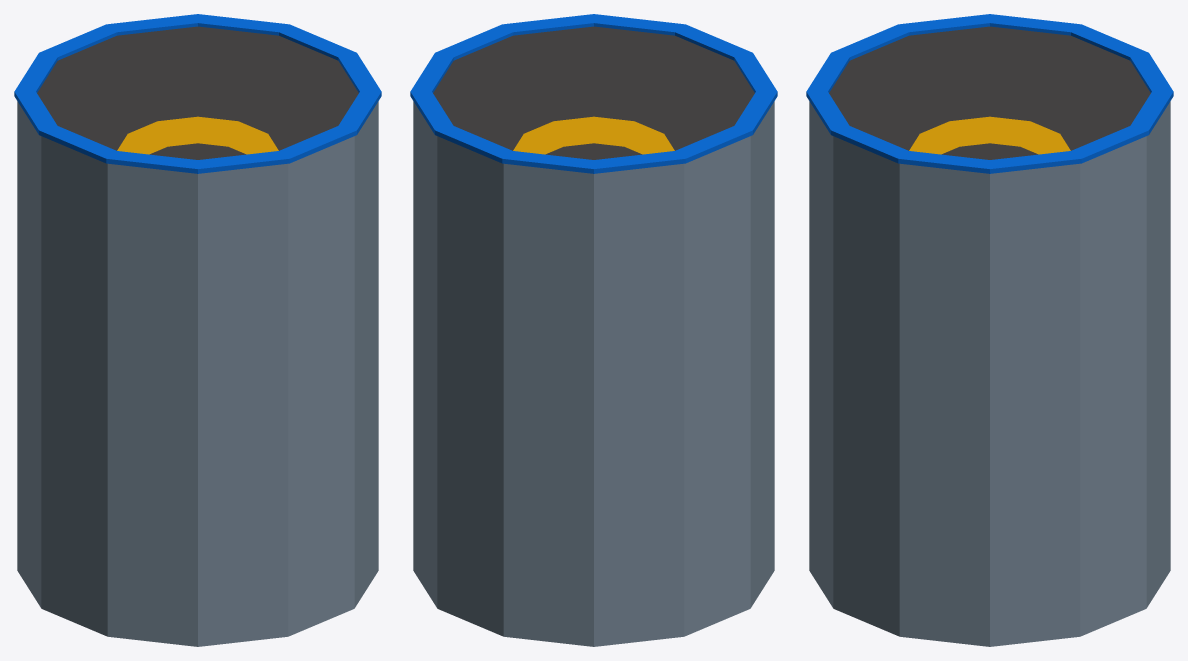
File: diving_trampoline_02(jump_02)_blend.fbx
The picture shows the model from 3 angles, left to right: view 1: azimuth 30°, elevation 25°; view 2: azimuth 150°, elevation 25°; view 3: azimuth 270°, elevation 25°; orthographic projection.
Parts seen in each view (by area): view 1: obj_trampoline3, obj_trampoline1, obj_trampoline2; view 2: obj_trampoline3, obj_trampoline1, obj_trampoline2; view 3: obj_trampoline3, obj_trampoline1, obj_trampoline2.
Part boxes in pixels (left/top/right/bottom): obj_trampoline3: left=17, top=101, right=378, bottom=646; obj_trampoline1: left=37, top=26, right=358, bottom=159; obj_trampoline2: left=14, top=14, right=381, bottom=173; obj_trampoline3: left=413, top=101, right=774, bottom=646; obj_trampoline1: left=433, top=26, right=754, bottom=159; obj_trampoline2: left=410, top=14, right=777, bottom=173; obj_trampoline3: left=809, top=101, right=1170, bottom=646; obj_trampoline1: left=829, top=26, right=1150, bottom=159; obj_trampoline2: left=806, top=14, right=1173, bottom=173.
Size of the model in its own units: 351 by 505 by 351.
